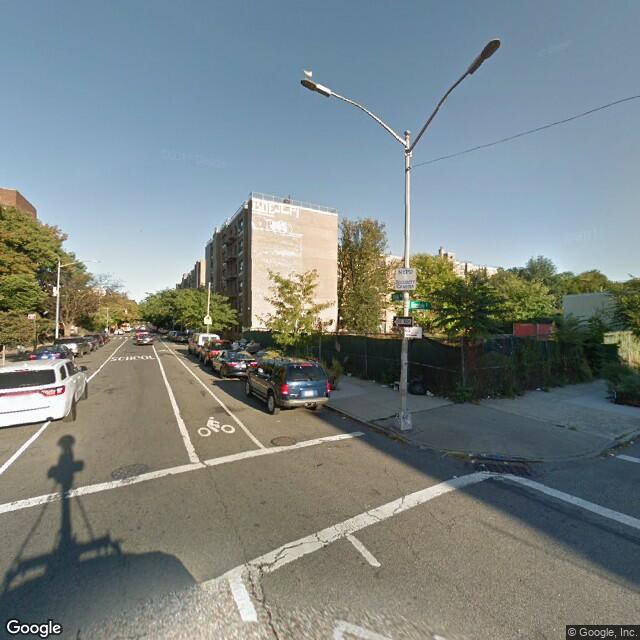litter: (422, 386, 432, 396), (479, 446, 487, 457), (448, 472, 457, 481), (465, 451, 471, 463), (386, 379, 394, 385)
